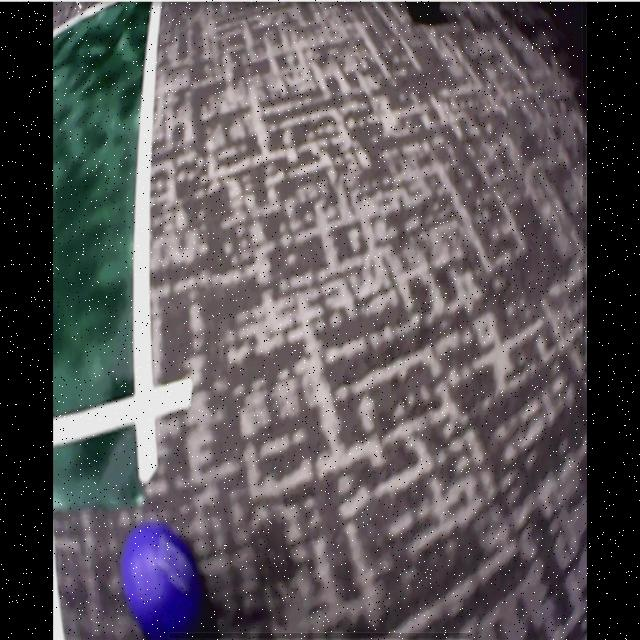ball: (124, 522, 197, 633)
